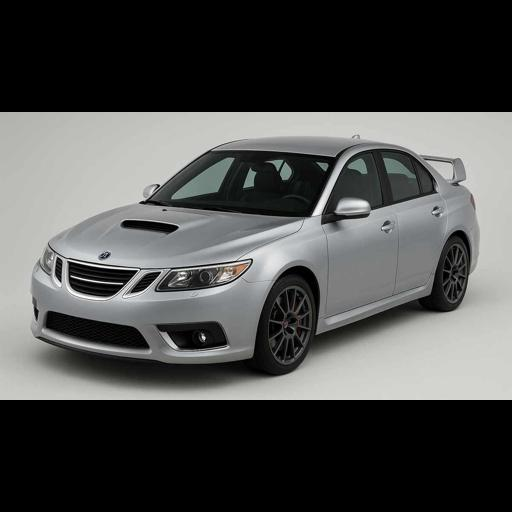sedan: (31, 137, 479, 373)
